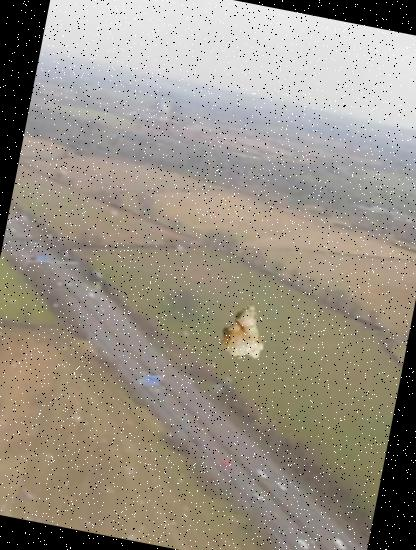Ginger: (212, 298, 279, 365)
